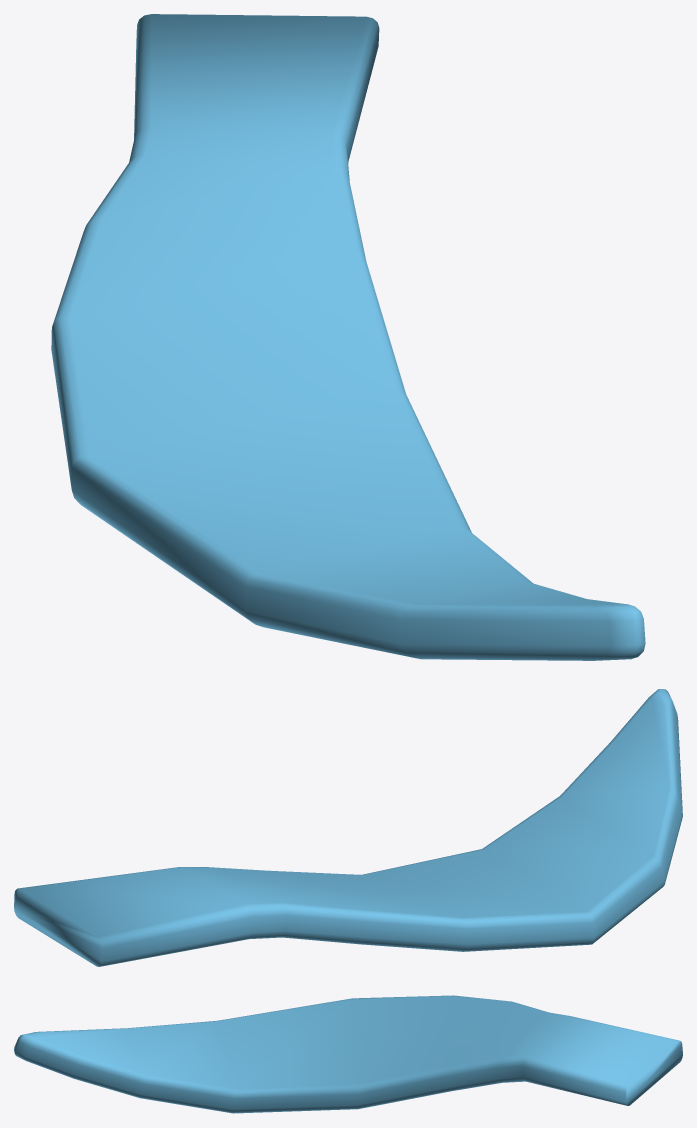
The model's file is TFeetL.fbx.
The picture shows the model from 3 angles, top to bottom: view 1: azimuth 30°, elevation 25°; view 2: azimuth 150°, elevation 25°; view 3: azimuth 270°, elevation 25°; orthographic projection. The views are drawn at different scales.
Visible parts, largest first — view 1: TFeet.L; view 2: TFeet.L; view 3: TFeet.L.
Part boxes in pixels (x1,y1,x2,y2): TFeet.L: (51, 14, 645, 660); TFeet.L: (14, 689, 682, 966); TFeet.L: (14, 995, 682, 1113).
Size of the model in its own units: 119 by 40.84 by 237.
